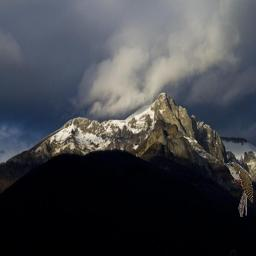Cuckoo: (223, 162, 253, 217)
